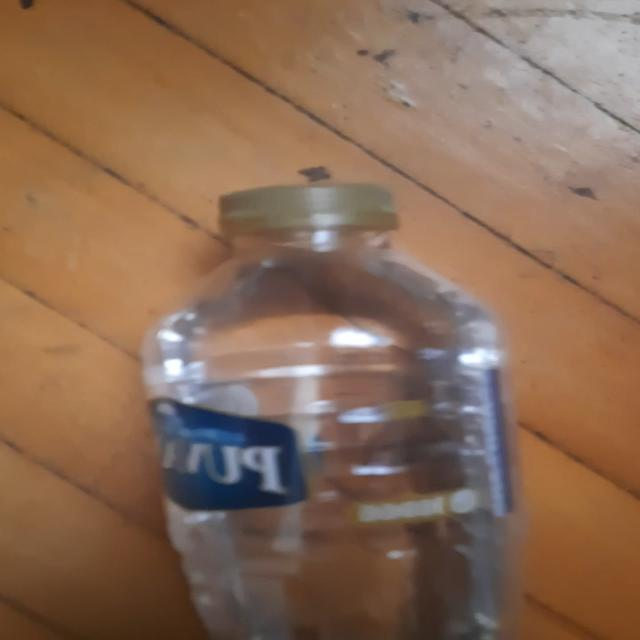Plastic: (140, 182, 528, 640), (155, 338, 510, 514), (222, 190, 410, 242)
